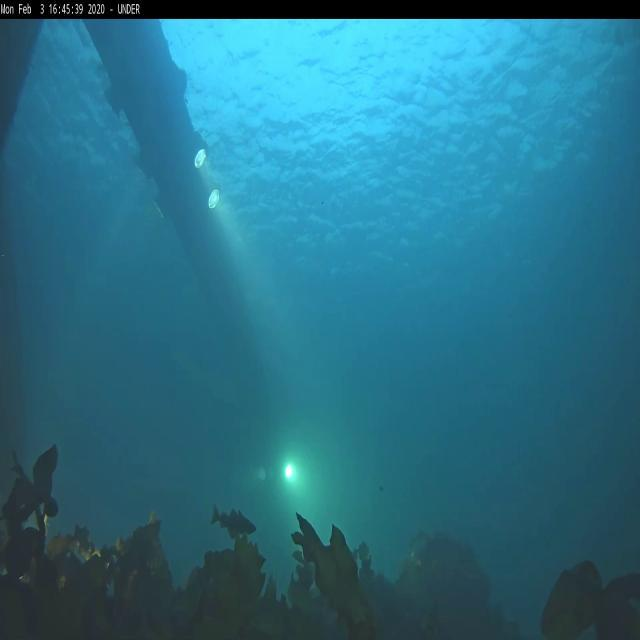fish: (210, 503, 258, 536)
